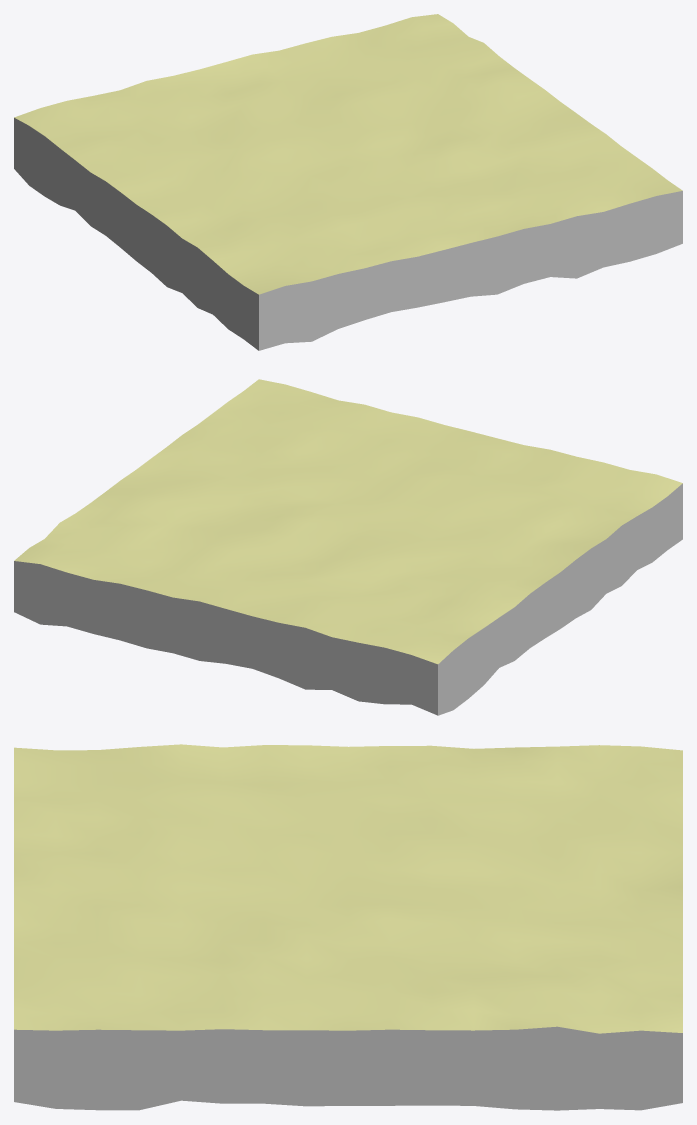
The model's file is Water.fbx.
The picture shows the model from 3 angles, top to bottom: view 1: azimuth 30°, elevation 25°; view 2: azimuth 150°, elevation 25°; view 3: azimuth 270°, elevation 25°; orthographic projection. The views are drawn at different scales.
Parts seen in each view (by area): view 1: Cube; view 2: Cube; view 3: Cube.
Boxes of the visible parts, bbox=[...] form: Cube: bbox=[14, 14, 682, 350]; Cube: bbox=[14, 379, 682, 715]; Cube: bbox=[14, 744, 682, 1110].
Size of the model in its own units: 878 by 132 by 878.
